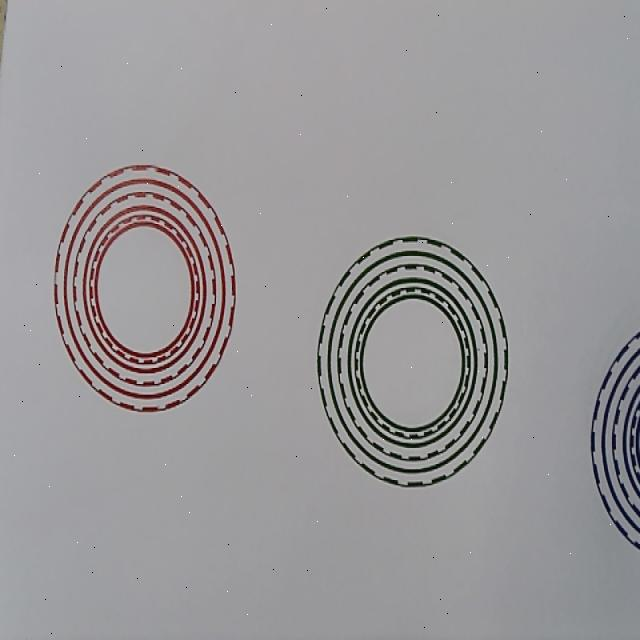g: (317, 234, 510, 488)
red-green-blue: (54, 164, 236, 414)
